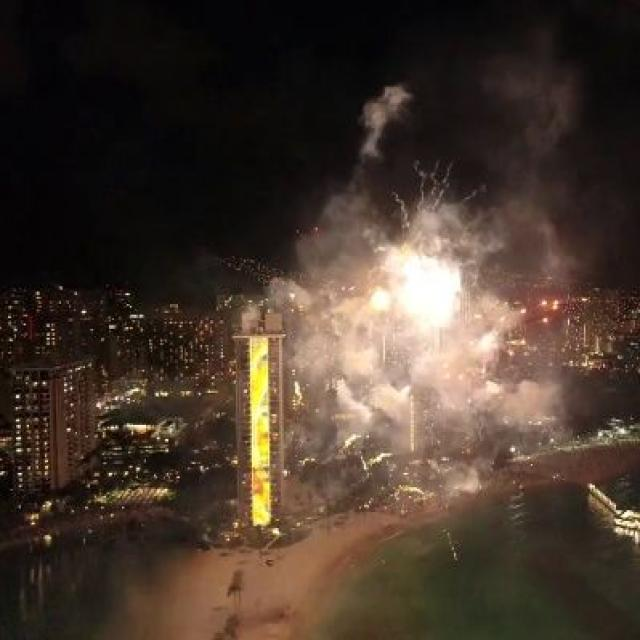Smoke: (254, 182, 370, 455), (372, 347, 566, 437), (476, 23, 601, 157), (532, 198, 608, 300), (354, 78, 418, 166)
